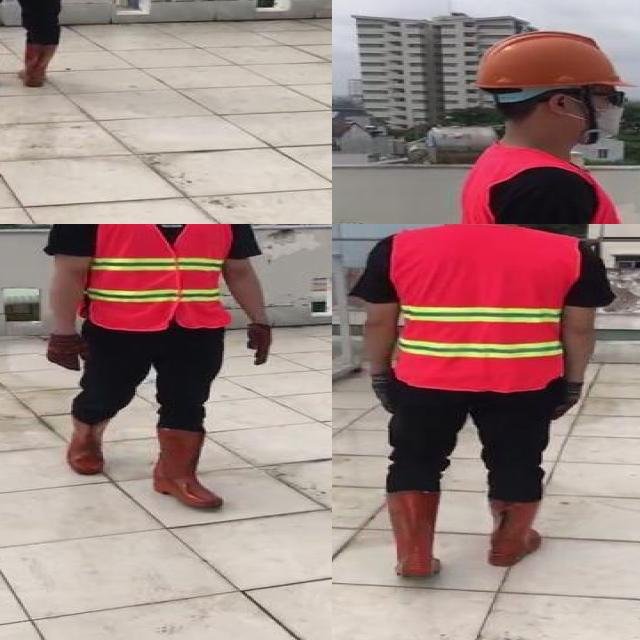boots: (153, 427, 222, 509), (386, 489, 445, 580), (484, 494, 541, 567), (69, 413, 107, 476), (20, 43, 58, 88)
face_mask: (551, 86, 634, 144)
hand_glove: (40, 335, 90, 371), (365, 369, 402, 413), (544, 380, 582, 421), (247, 324, 270, 366)
head_helmet: (470, 28, 633, 92)
person: (343, 224, 606, 589), (26, 224, 280, 515), (429, 24, 640, 224)
vest: (392, 225, 574, 391), (89, 224, 233, 330), (455, 145, 640, 224)
